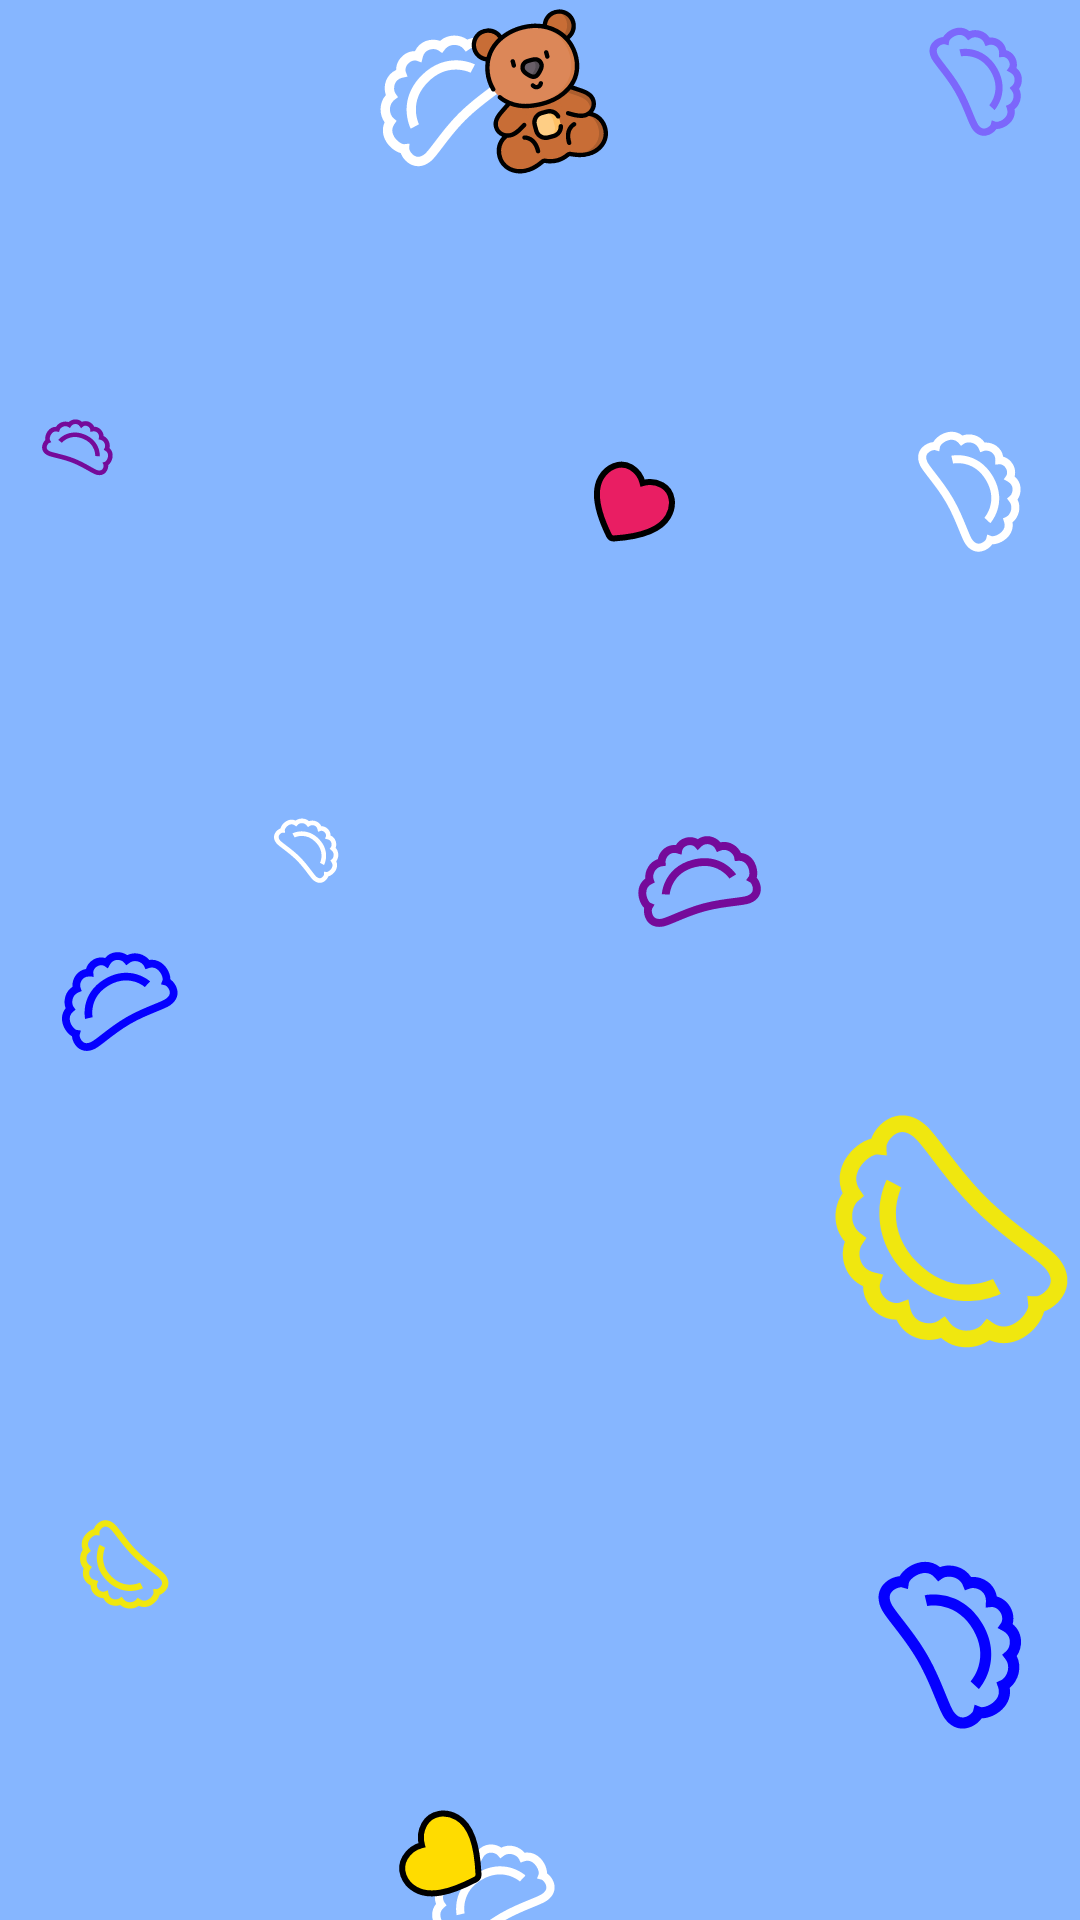

Point at icon controls on the screen. Image size 1080*1920, points as [x,y].
heart: [634,501], [451,1865]
teddy bear: [527,91]
